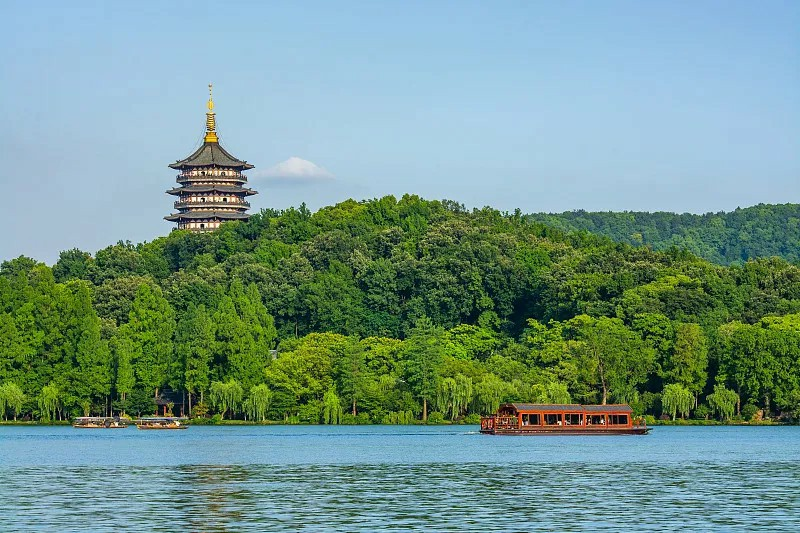Leifeng: (162, 81, 258, 233)
